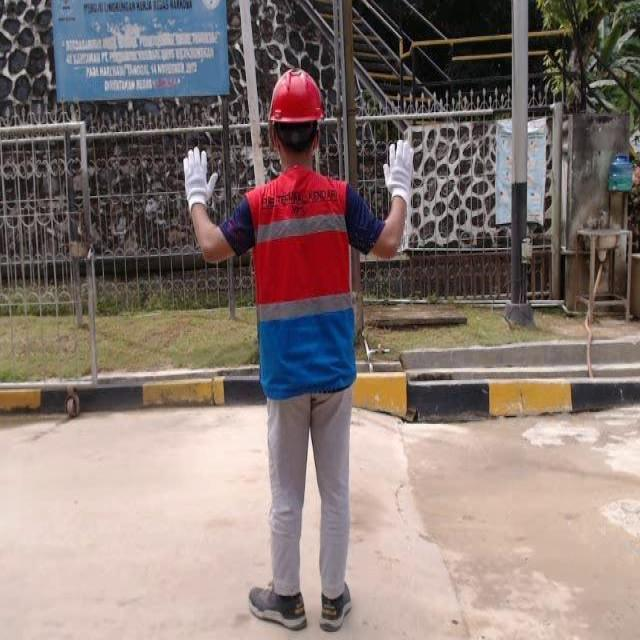helmet: (261, 63, 326, 125)
